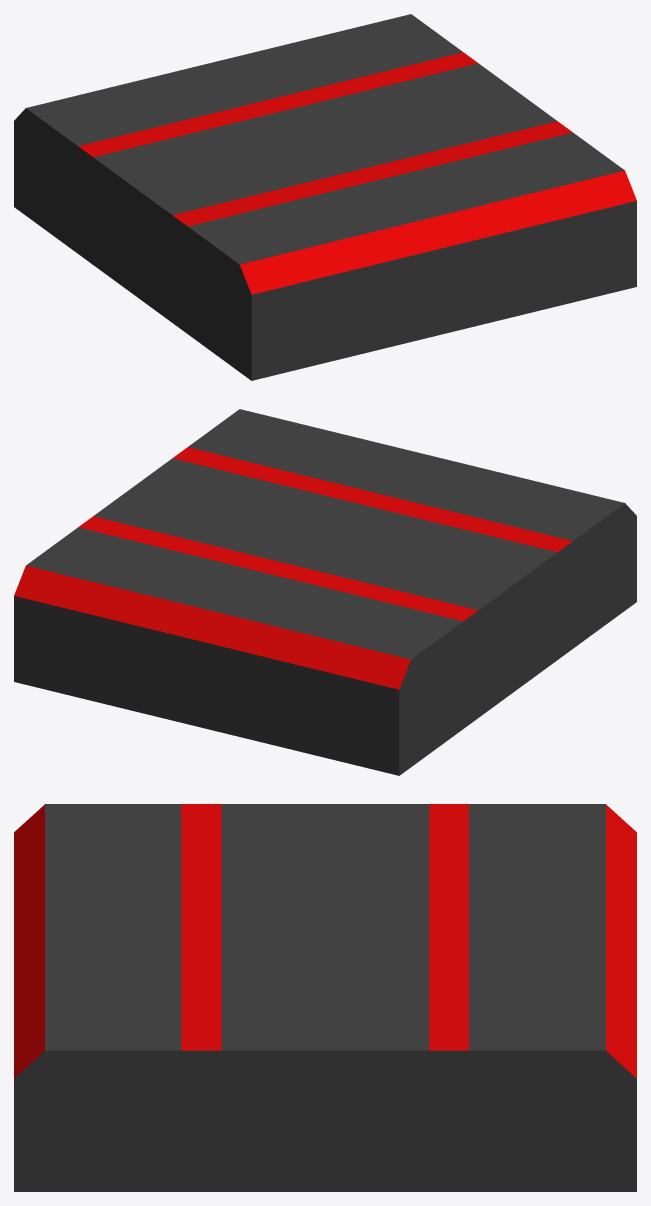
Rendered from Middle Platfrom.fbx.
3 views of the same model, one above another, from view 1: azimuth 30°, elevation 25°; view 2: azimuth 150°, elevation 25°; view 3: azimuth 270°, elevation 25° (orthographic). The views are drawn at different scales.
Visible parts, largest first — view 1: polySurface3; view 2: polySurface3; view 3: polySurface3.
Boxes of the visible parts, bbox=[...] form: polySurface3: bbox=[14, 14, 636, 380]; polySurface3: bbox=[14, 409, 636, 775]; polySurface3: bbox=[14, 804, 636, 1191].
Size of the model in its own units: 5.62 by 1.5 by 6.
